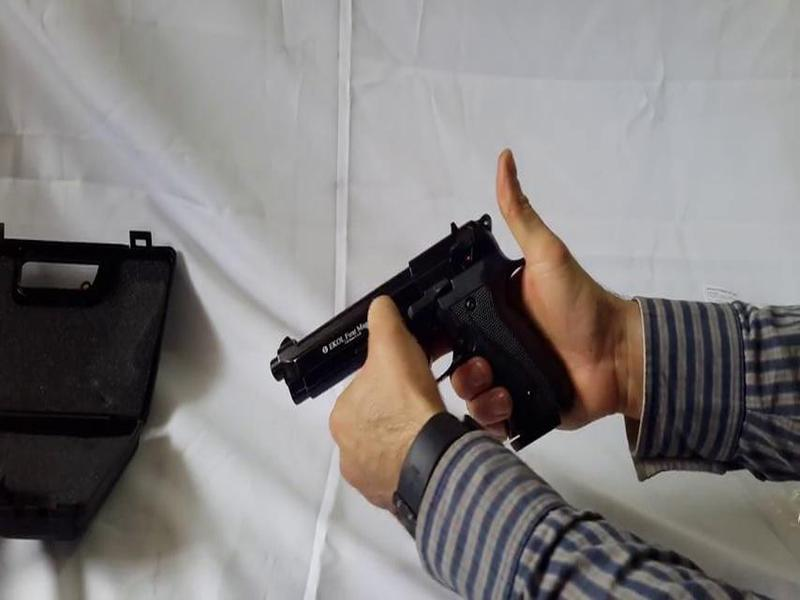Pistola: (233, 210, 577, 463)
